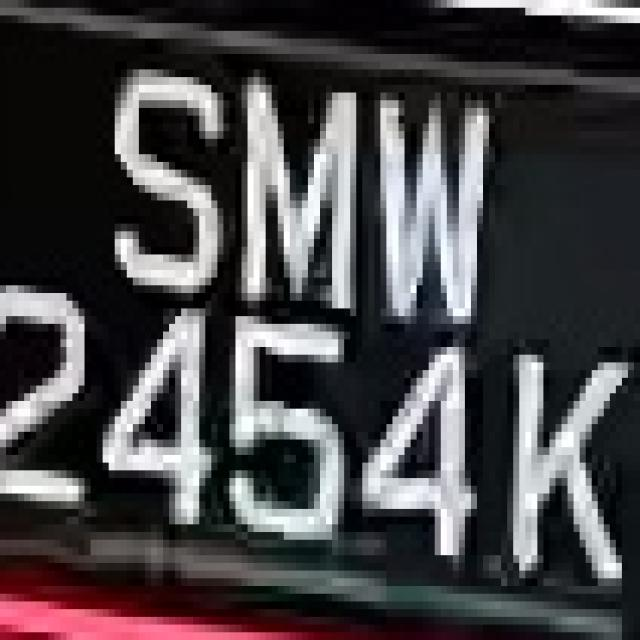2: (0, 255, 97, 524)
4: (356, 316, 489, 571), (96, 278, 224, 540)
5: (218, 316, 356, 540)
K: (495, 324, 622, 601)
M: (230, 38, 362, 332)
S: (96, 46, 224, 308)
W: (350, 70, 507, 340)
